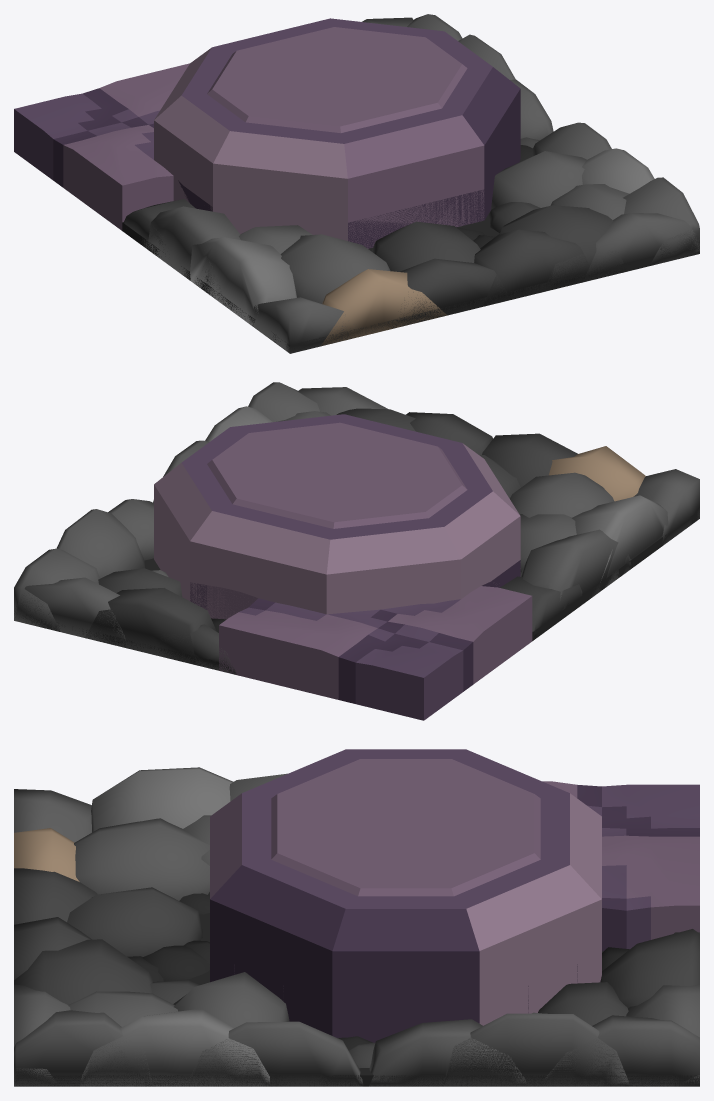
The model's file is purple_pad_br.glb.
3 views of the same model, one above another, from view 1: azimuth 30°, elevation 25°; view 2: azimuth 150°, elevation 25°; view 3: azimuth 270°, elevation 25° (orthographic). The views are drawn at different scales.
Visible parts, largest first — view 1: purple_pad_br_pad, purple_pad_br_pad_panel, purple_pad_br_floor, purple_pad_br_rocks_1, purple_pad_br_rocks_15, purple_pad_br_rocks_4, purple_pad_br_rocks_21, purple_pad_br_rocks_8, purple_pad_br_rocks_22, purple_pad_br_rocks_20, purple_pad_br_rocks_12, purple_pad_br_rocks_2 (+13 smaller); view 2: purple_pad_br_pad, purple_pad_br_floor, purple_pad_br_pad_panel, purple_pad_br_rocks_10, purple_pad_br_rocks_2, purple_pad_br_rocks_1, purple_pad_br_rocks_3, purple_pad_br_rocks_16, purple_pad_br_rocks_8, purple_pad_br_rocks_5, purple_pad_br_rocks_20, purple_pad_br_rocks_14 (+13 smaller); view 3: purple_pad_br_pad, purple_pad_br_pad_panel, purple_pad_br_floor, purple_pad_br_rocks_3, purple_pad_br_rocks_0, purple_pad_br_rocks_8, purple_pad_br_rocks_6, purple_pad_br_rocks_5, purple_pad_br_rocks_9, purple_pad_br_rocks_17, purple_pad_br_rocks_13, purple_pad_br_rocks_1 (+16 smaller).
Boxes of the visible parts, x1=… form: purple_pad_br_pad: x1=154, y1=18, x2=520, y2=248; purple_pad_br_pad_panel: x1=207, y1=27, x2=467, y2=133; purple_pad_br_floor: x1=14, y1=63, x2=484, y2=248; purple_pad_br_rocks_1: x1=190, y1=237, x2=296, y2=327; purple_pad_br_rocks_15: x1=474, y1=229, x2=591, y2=306; purple_pad_br_rocks_4: x1=320, y1=269, x2=447, y2=346; purple_pad_br_rocks_21: x1=499, y1=205, x2=627, y2=290; purple_pad_br_rocks_8: x1=280, y1=234, x2=390, y2=303; purple_pad_br_rocks_22: x1=583, y1=213, x2=699, y2=281; purple_pad_br_rocks_20: x1=392, y1=258, x2=510, y2=326; purple_pad_br_rocks_12: x1=491, y1=151, x2=586, y2=209; purple_pad_br_rocks_2: x1=148, y1=206, x2=240, y2=305; purple_pad_br_pad: x1=154, y1=414, x2=520, y2=618; purple_pad_br_floor: x1=190, y1=560, x2=532, y2=720; purple_pad_br_pad_panel: x1=207, y1=422, x2=467, y2=528; purple_pad_br_rocks_10: x1=85, y1=588, x2=216, y2=665; purple_pad_br_rocks_2: x1=520, y1=529, x2=633, y2=609; purple_pad_br_rocks_1: x1=572, y1=495, x2=668, y2=587; purple_pad_br_rocks_3: x1=56, y1=509, x2=144, y2=578; purple_pad_br_rocks_16: x1=14, y1=577, x2=129, y2=648; purple_pad_br_rocks_8: x1=510, y1=472, x2=614, y2=517; purple_pad_br_rocks_5: x1=14, y1=548, x2=99, y2=631; purple_pad_br_rocks_20: x1=482, y1=433, x2=577, y2=487; purple_pad_br_rocks_14: x1=633, y1=469, x2=699, y2=546; purple_pad_br_pad: x1=210, y1=749, x2=601, y2=1041; purple_pad_br_pad_panel: x1=271, y1=759, x2=540, y2=896; purple_pad_br_floor: x1=234, y1=781, x2=699, y2=1042; purple_pad_br_rocks_3: x1=444, y1=1013, x2=628, y2=1086; purple_pad_br_rocks_0: x1=80, y1=1009, x2=269, y2=1086; purple_pad_br_rocks_8: x1=74, y1=818, x2=209, y2=900; purple_pad_br_rocks_6: x1=188, y1=1021, x2=363, y2=1086; purple_pad_br_rocks_5: x1=543, y1=1015, x2=699, y2=1086; purple_pad_br_rocks_9: x1=369, y1=1019, x2=526, y2=1086; purple_pad_br_rocks_17: x1=14, y1=1010, x2=151, y2=1086; purple_pad_br_rocks_13: x1=67, y1=887, x2=202, y2=956; purple_pad_br_rocks_1: x1=91, y1=767, x2=233, y2=832.
Bounding box in the file's own units: 24 × 6.25 × 28.
